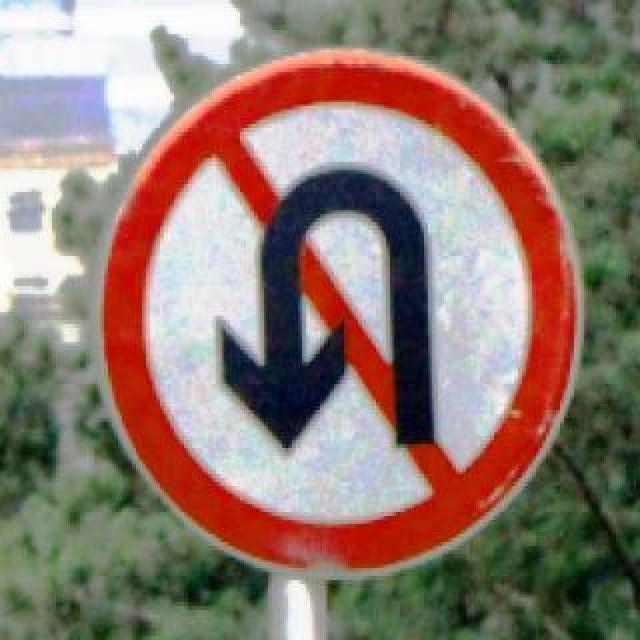no u turn: (94, 40, 582, 576)
